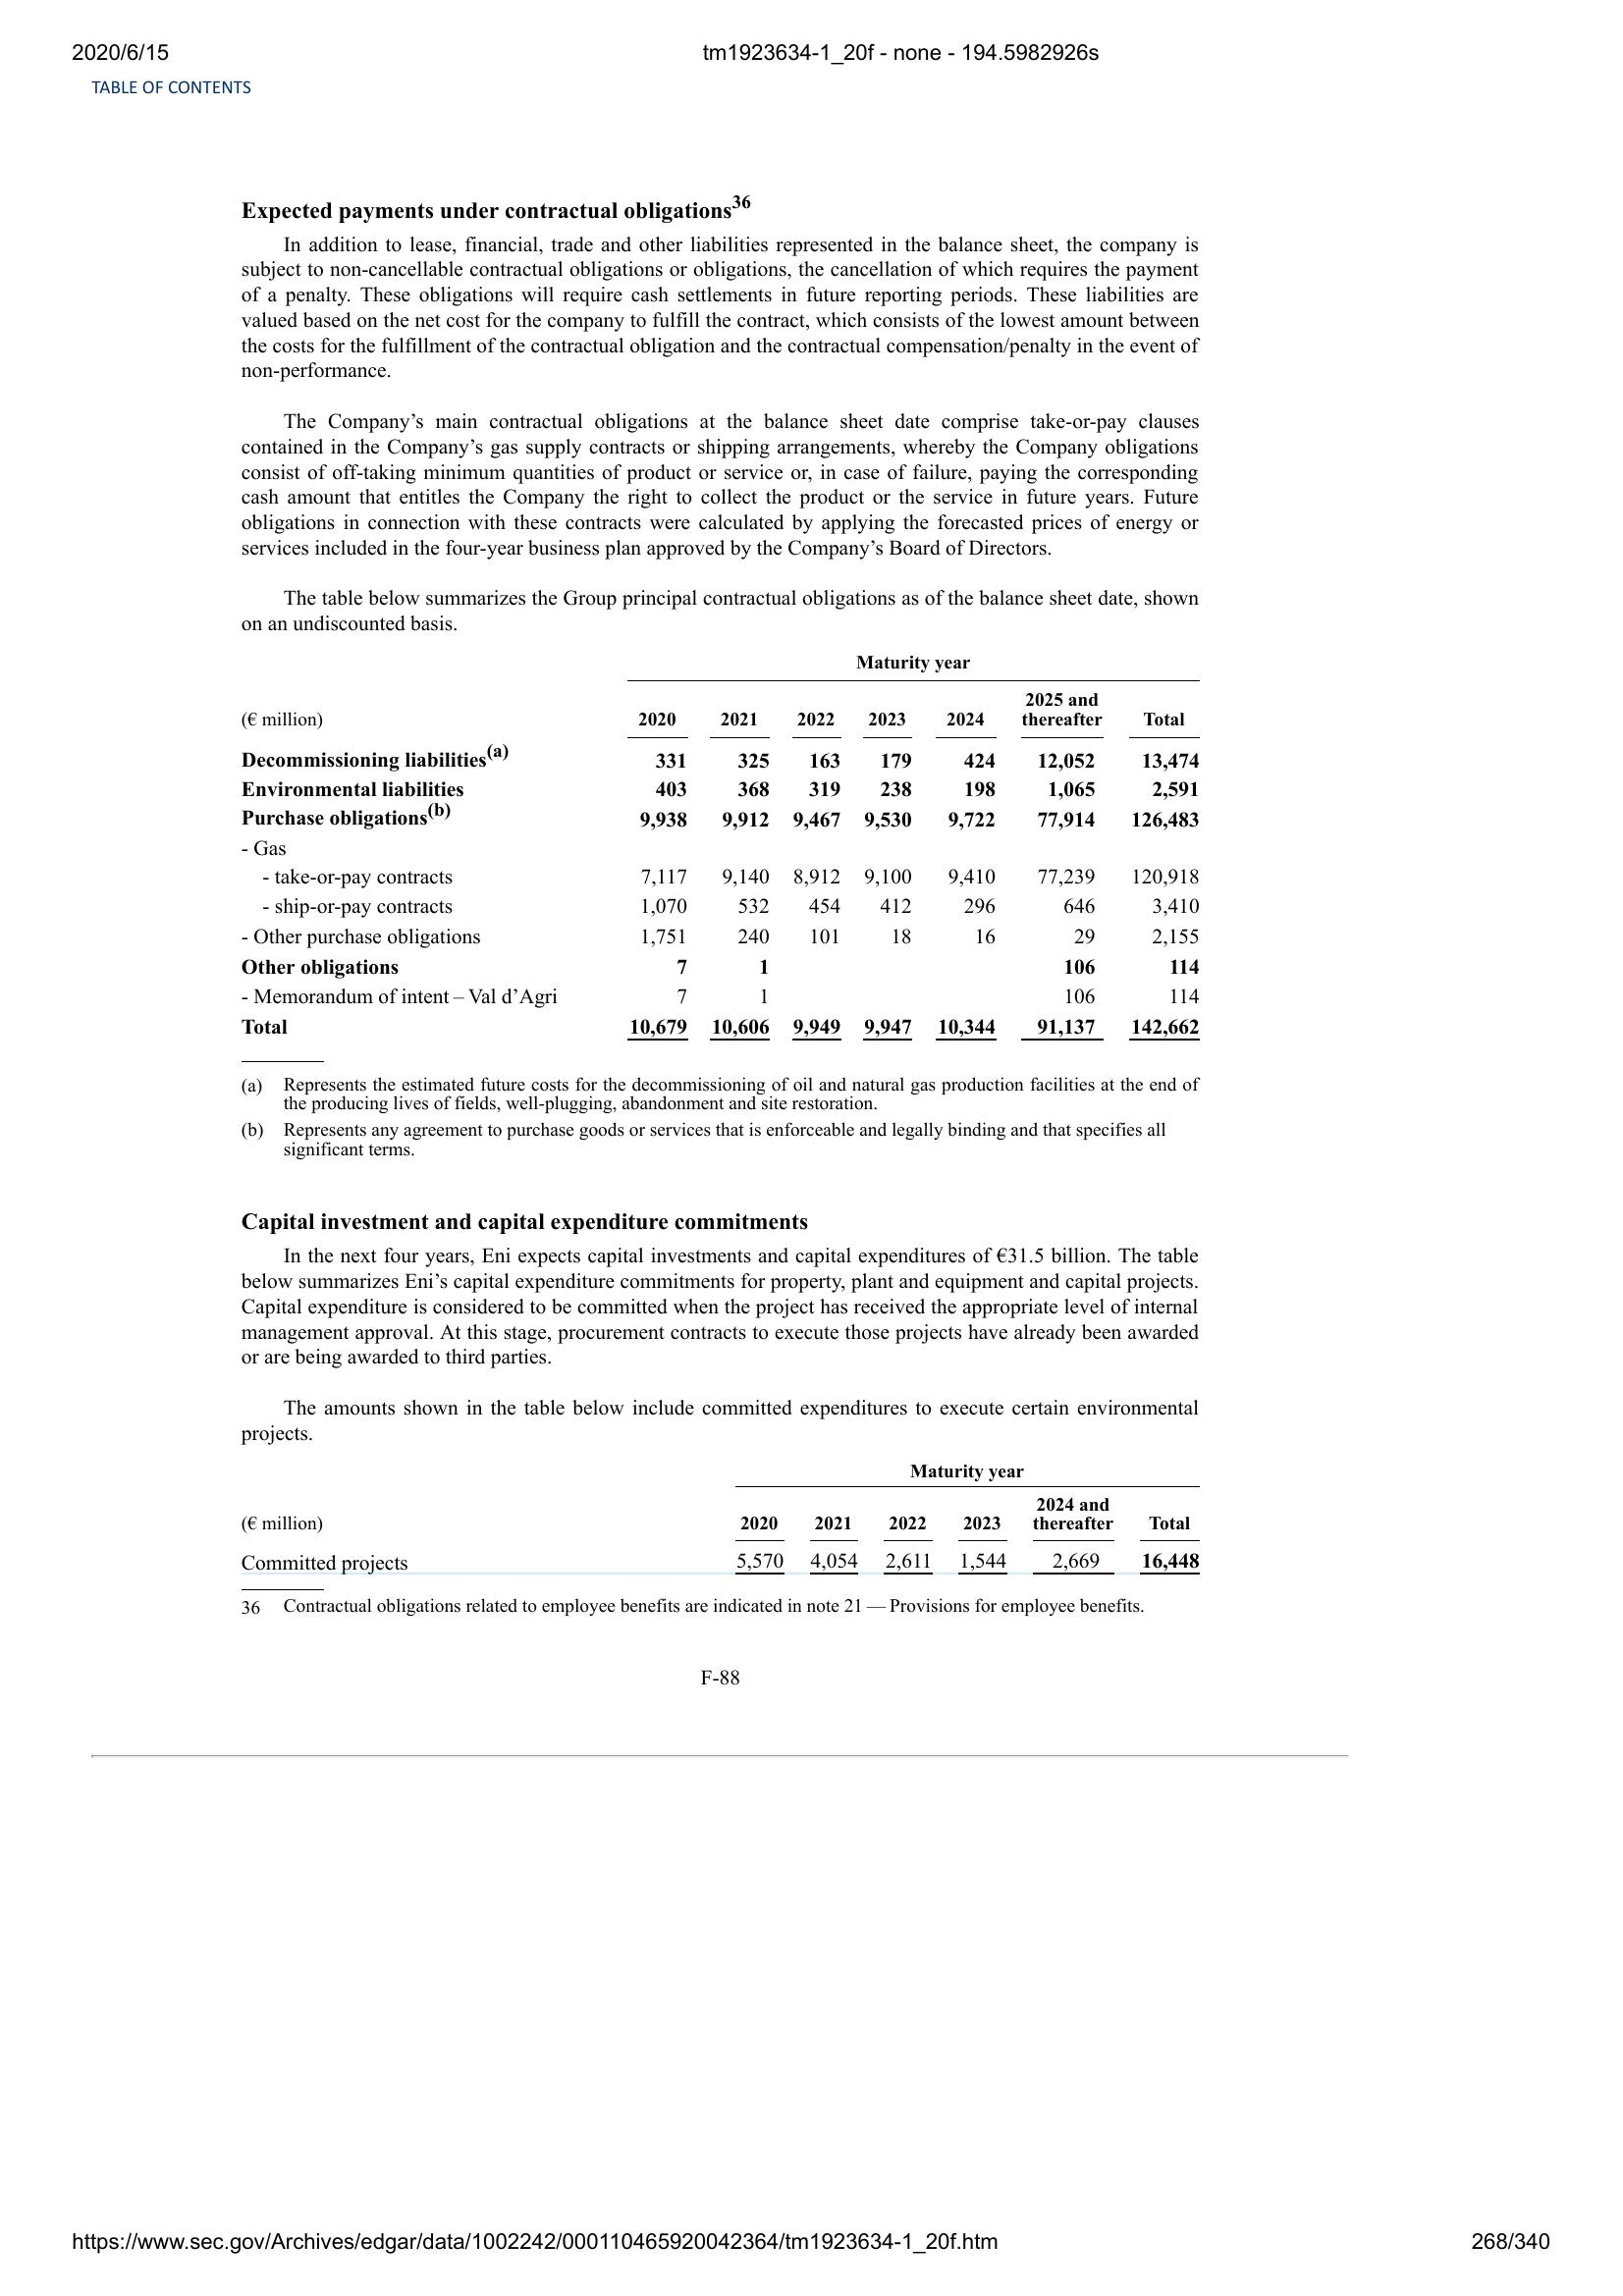table: (237, 653, 1208, 1043), (242, 1459, 1203, 1585)
